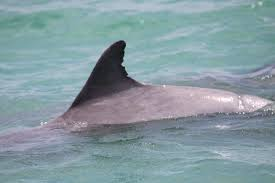fin: (13, 35, 275, 128)
